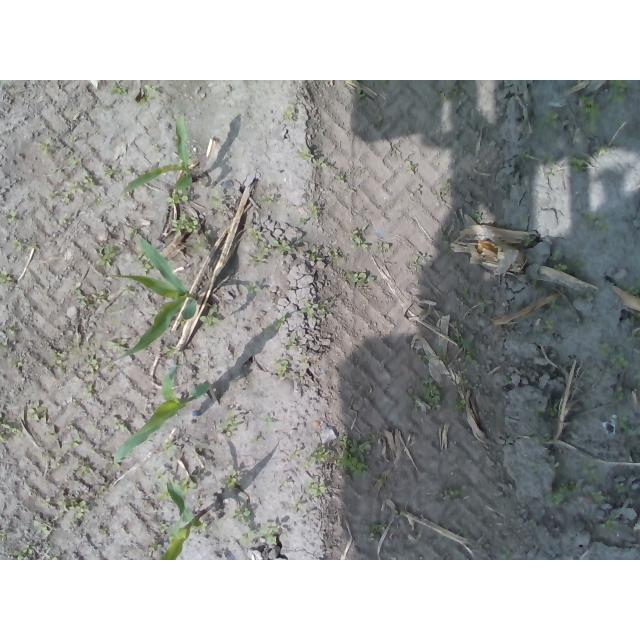Maize: (107, 234, 201, 363), (113, 369, 210, 466), (122, 114, 195, 193), (159, 480, 207, 561)
Weeds: (336, 431, 372, 478), (599, 338, 633, 376), (240, 523, 289, 547), (578, 94, 602, 135), (246, 227, 270, 266), (545, 477, 576, 504), (290, 448, 329, 469), (65, 175, 95, 201), (459, 337, 481, 367), (60, 497, 88, 520), (221, 409, 243, 438), (170, 214, 199, 234), (97, 243, 120, 267), (193, 224, 212, 252), (420, 381, 443, 404), (199, 305, 221, 328), (608, 81, 629, 105), (551, 248, 569, 274), (12, 238, 40, 254), (350, 229, 369, 249), (581, 462, 599, 483), (542, 110, 560, 130), (303, 301, 327, 316), (231, 506, 252, 523), (368, 523, 385, 544), (181, 476, 198, 496), (348, 270, 368, 287), (62, 433, 82, 450), (297, 145, 315, 163), (272, 358, 289, 377), (571, 157, 590, 174), (1, 428, 20, 445), (270, 238, 290, 254), (598, 517, 619, 532), (27, 399, 41, 421), (167, 191, 189, 205), (111, 80, 130, 96), (223, 470, 238, 490), (12, 548, 33, 561), (84, 355, 99, 373), (119, 283, 138, 297), (450, 399, 466, 414), (479, 297, 494, 313), (303, 246, 317, 263), (311, 483, 328, 497), (144, 83, 161, 97), (32, 521, 47, 536), (281, 109, 296, 124), (546, 400, 559, 417), (593, 143, 608, 157), (208, 191, 222, 206), (76, 287, 87, 305), (592, 489, 605, 504), (164, 439, 177, 454), (82, 383, 94, 399), (8, 358, 24, 370), (271, 316, 286, 328), (619, 414, 630, 430), (448, 488, 461, 501), (247, 281, 259, 295), (474, 211, 485, 226), (284, 338, 297, 350), (166, 346, 179, 358), (103, 166, 115, 179), (596, 219, 609, 231), (0, 271, 12, 284), (311, 203, 320, 220), (451, 86, 466, 96), (39, 143, 51, 155), (80, 463, 92, 475), (545, 166, 556, 179), (542, 319, 556, 329), (613, 482, 624, 494), (548, 303, 560, 314), (626, 285, 639, 295), (463, 286, 476, 296), (358, 87, 367, 101), (380, 243, 391, 254), (616, 393, 626, 404), (335, 175, 345, 186), (316, 159, 327, 169), (442, 238, 450, 251), (147, 542, 157, 552), (52, 351, 62, 361), (263, 195, 273, 205), (584, 213, 593, 223), (295, 218, 305, 227), (520, 151, 528, 161), (0, 341, 8, 351), (8, 211, 16, 221), (97, 197, 103, 207), (156, 473, 164, 480), (1, 532, 7, 540), (0, 81, 8, 86)
